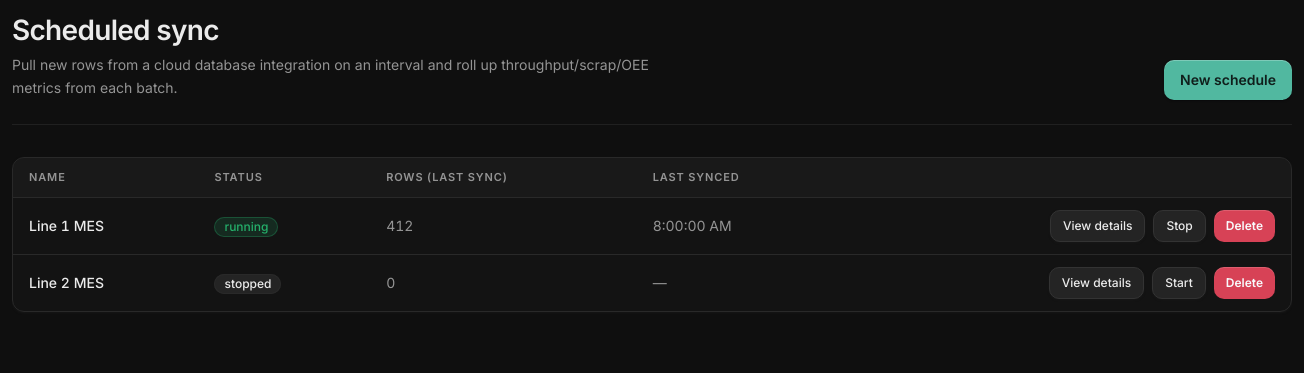
Test: Realtime › shows the delete error and keeps the row
The width and height of the screenshot is (1304, 373).
Expected: the text "Line 1 MES" is shown, [13,198,198,254]
Click the button "Delete" in the row of "Line 1 MES" at (1244, 226), box [1214,210,1275,242]
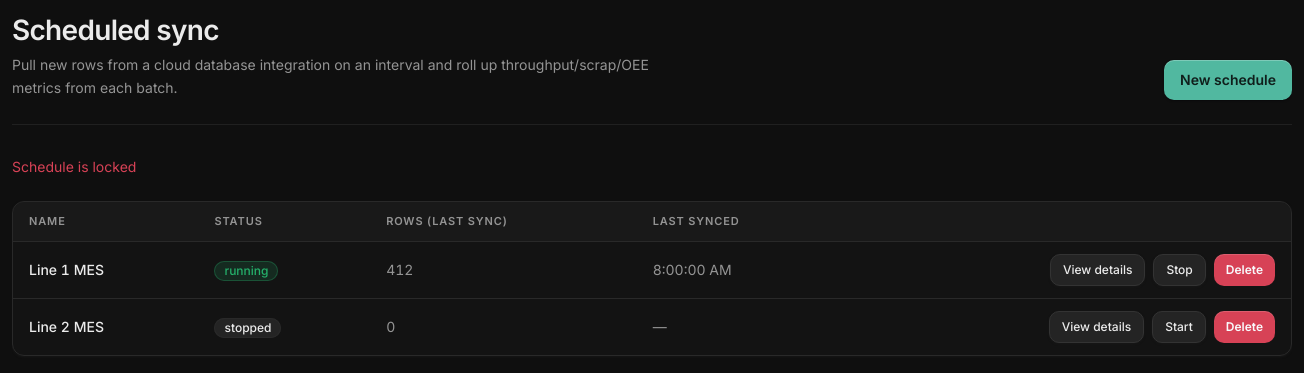
Expected: the text "Line 1 MES" is shown, [13,242,198,298]
Expected: the text "Schedule is locked" is shown, [12,158,136,174]
